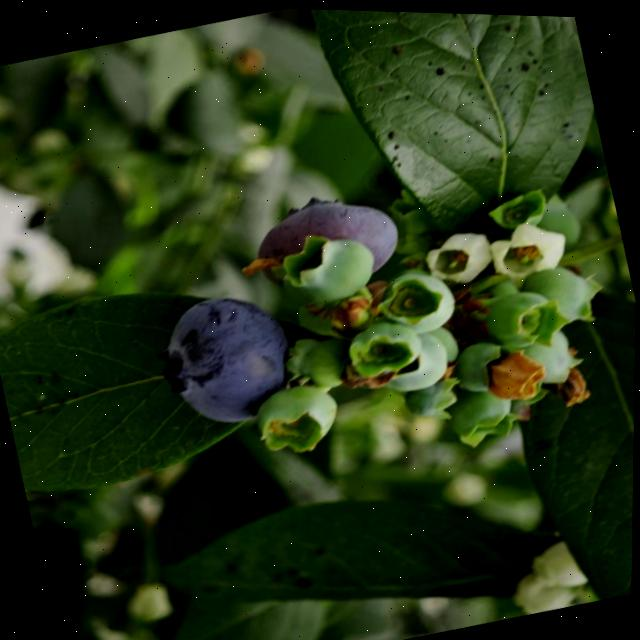RipeBlueBerry: (153, 279, 302, 436)
UnripeBlueBerry: (249, 378, 343, 460)
